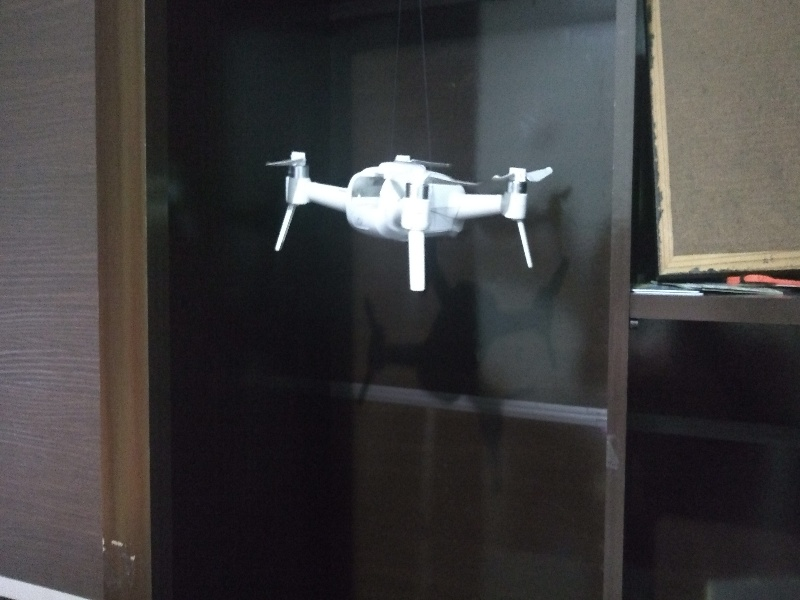drone: (262, 141, 564, 294)
